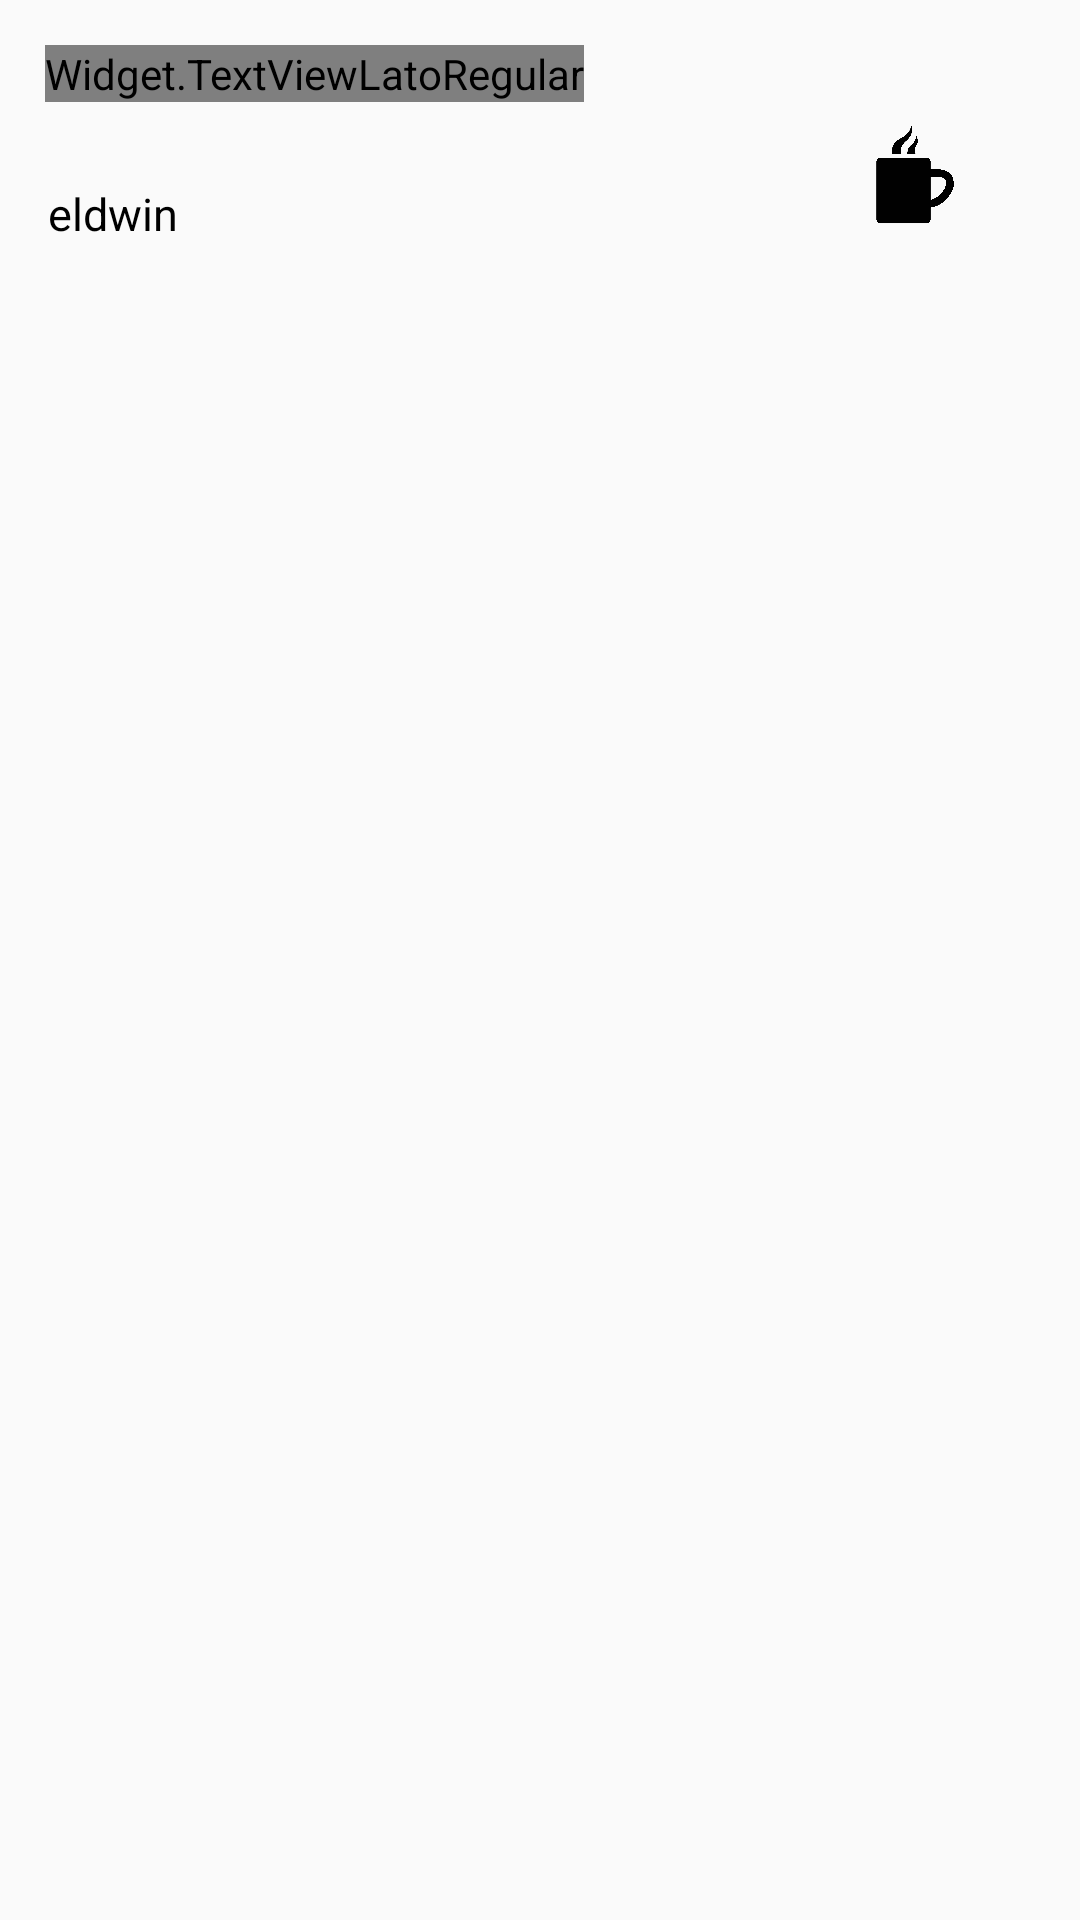

Icon click points for this 1080×1920 phone screenshot, format [x,y]:
mug: [915,174]
